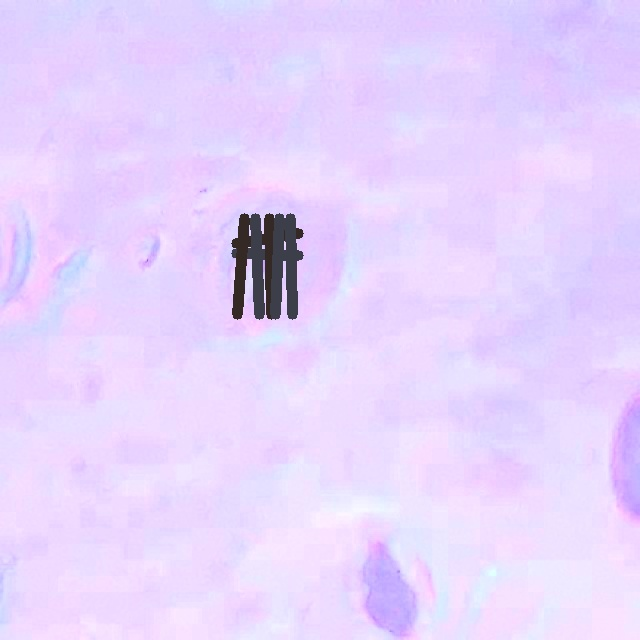open: (231, 213, 302, 319)
